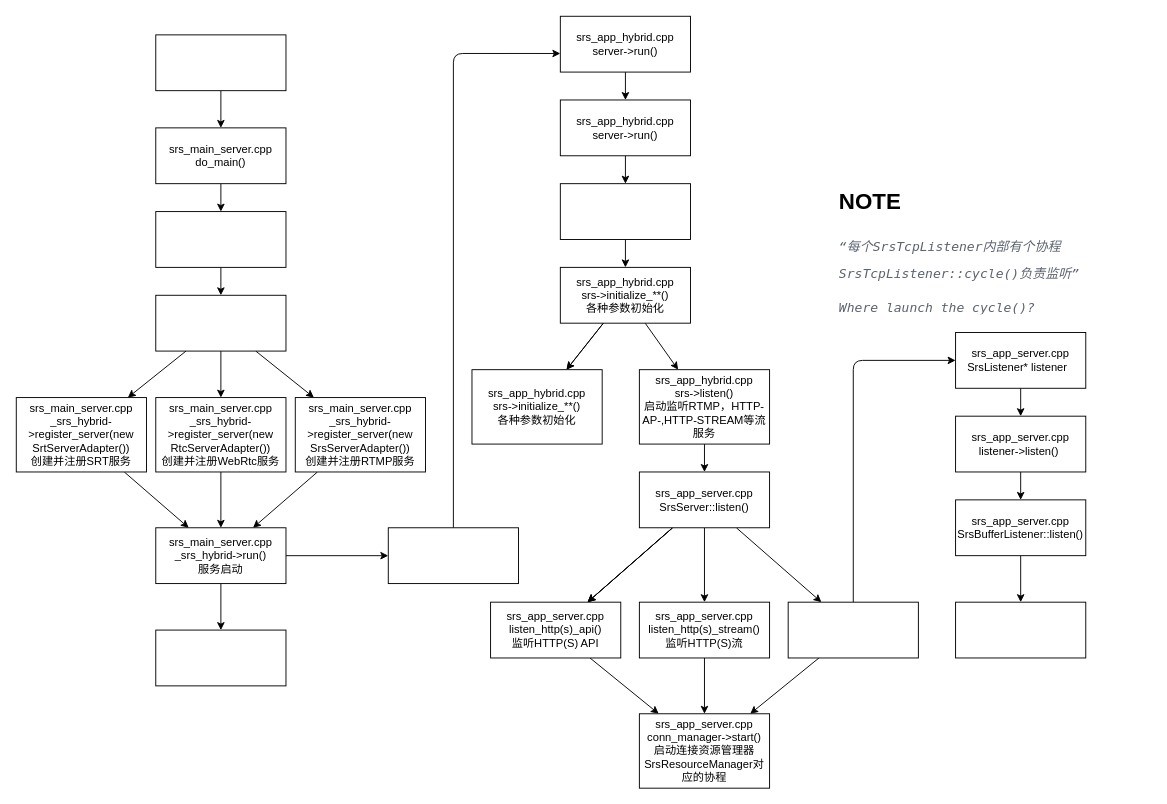
This 1167x804 diagram has some shape labels left out. The centre of each missing label's shape, as x and y in pixels:
srs_app_hybrid.cpp SrsHybridServer::run(): (452,555)
srs_app_hybrid.cpp SrsServerAdapter::run(): (625,211)
srs_app_listener.cpp SrsTcpListener::listen(): (1020,629)
srs_app_server.cpp listen_rtmp() 监听RTMP: (852,629)
srs_main_server.cpp _srs_hybrid->stop(): (220,657)
srs_main_server.cpp main() 主函数，程序入口: (220,62)
srs_main_server.cpp run_directly_or_daemon(): (220,239)
srs_main_server.cpp run_hybrid_server() 启动服务: (220,322)
